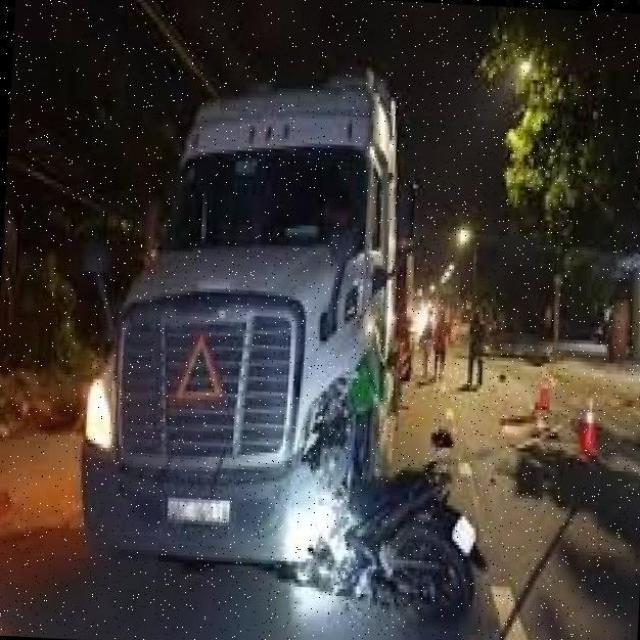accident: (230, 300, 524, 640)
